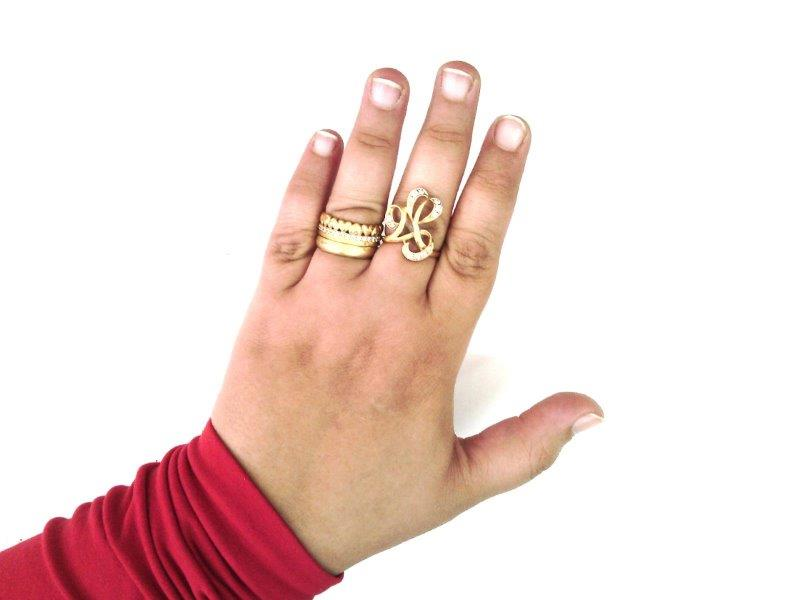hand: (209, 59, 607, 527)
